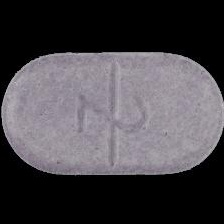53808-0335: (0, 0, 224, 224)
